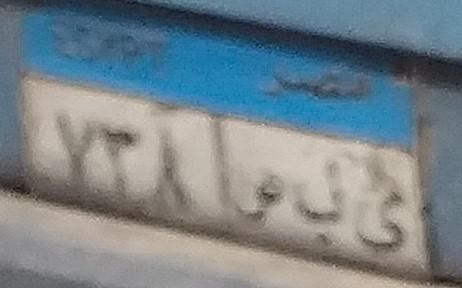3: (98, 109, 138, 203)
7: (55, 111, 99, 204)
8: (148, 112, 196, 220)
ب: (282, 174, 358, 238)
ص: (231, 164, 297, 240)
ي: (343, 179, 412, 267)
